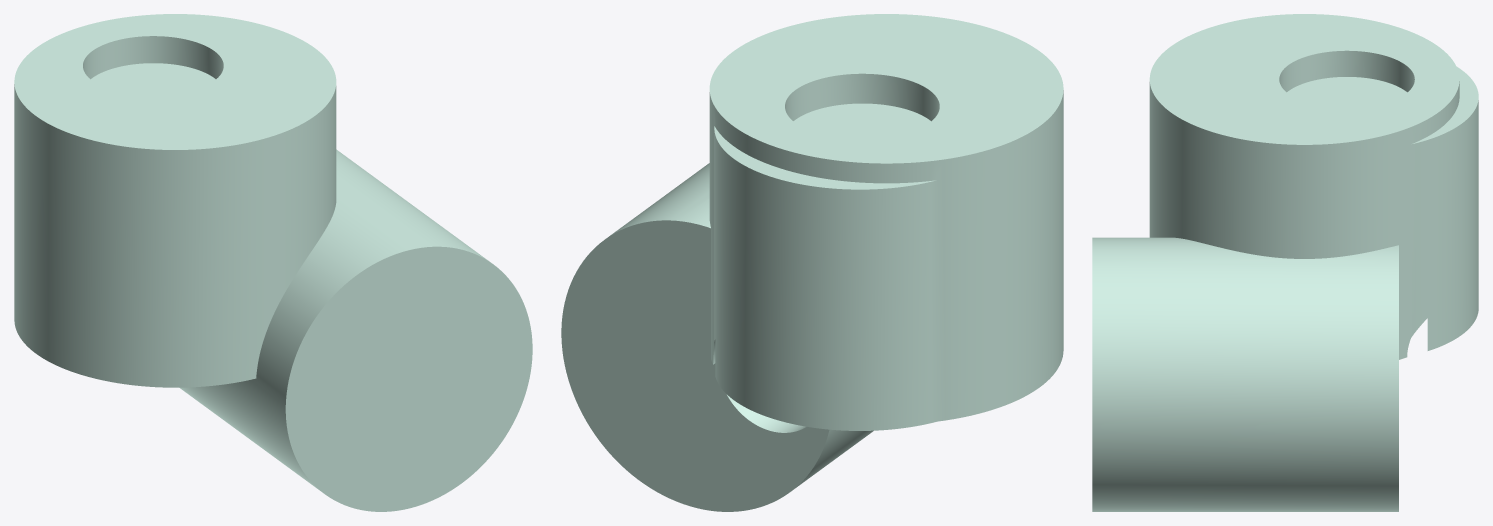
The picture shows the model from 3 angles, left to right: view 1: azimuth 30°, elevation 25°; view 2: azimuth 150°, elevation 25°; view 3: azimuth 270°, elevation 25°; orthographic projection. The views are drawn at different scales.
Parts seen in each view (by area): view 1: Renderer Node; view 2: Renderer Node; view 3: Renderer Node.
Part boxes in pixels (x1,y1,x2,y2): Renderer Node: (14, 14, 532, 511); Renderer Node: (561, 14, 1063, 511); Renderer Node: (1092, 14, 1478, 511).
Bounding box in the file's own units: 1.05 × 0.9762 × 0.9453.
